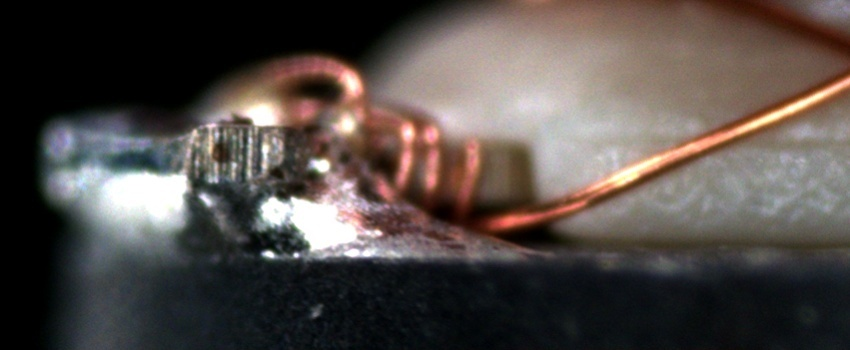DL: (589, 109, 849, 173)
TE: (226, 47, 498, 227)
